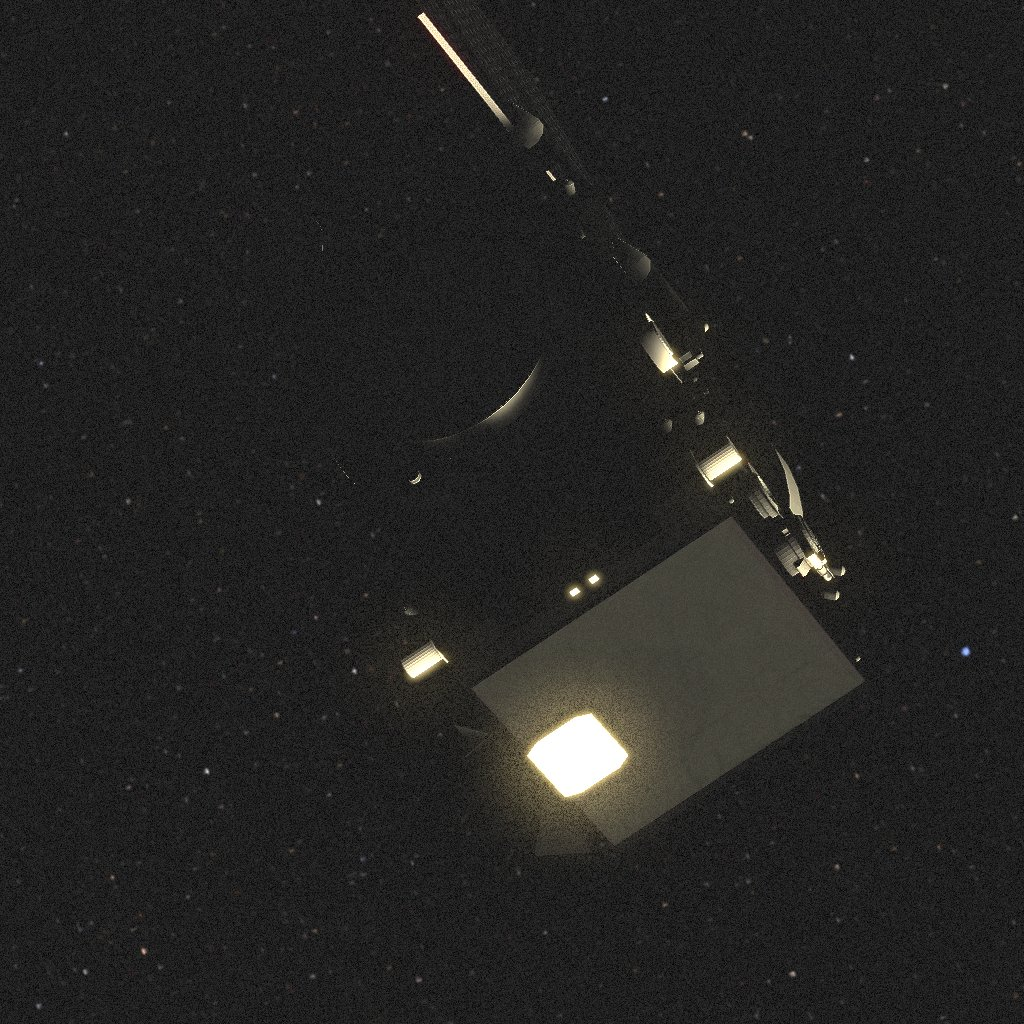proba_3_csc: (262, 0, 878, 858)
